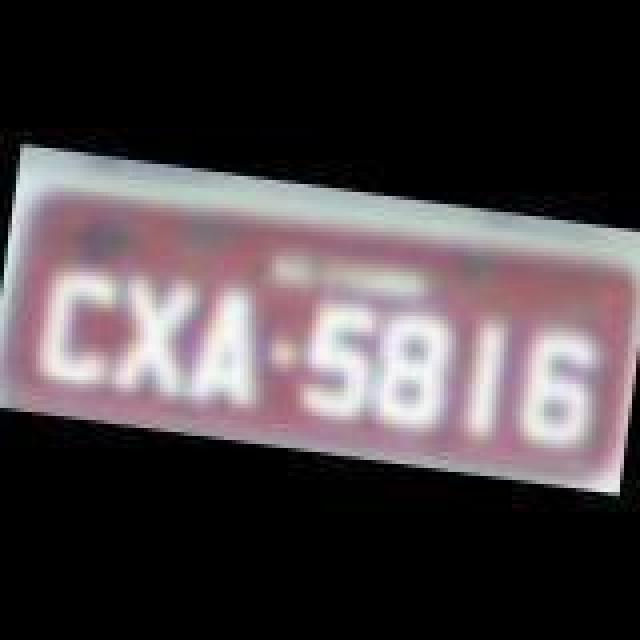1: (454, 310, 522, 450)
5: (290, 296, 382, 424)
6: (506, 322, 614, 462)
8: (368, 306, 464, 438)
A: (188, 286, 276, 418)
C: (30, 260, 130, 396)
X: (108, 268, 204, 404)
